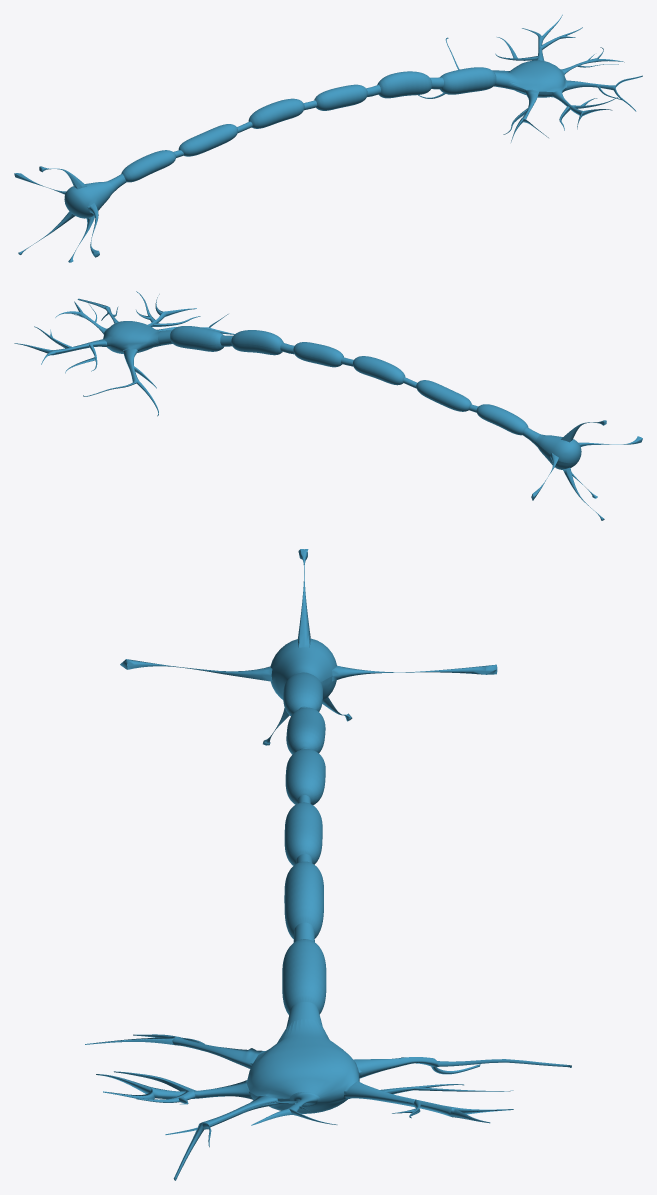
Rendered from 9ed90ed6-5ef8-4b29-85ef-f02ffbd577c3.fbx.
3 renders of one model, top to bottom at view 1: azimuth 30°, elevation 25°; view 2: azimuth 150°, elevation 25°; view 3: azimuth 270°, elevation 25°, orthographic. The views are drawn at different scales.
Visible parts, largest first — view 1: Object_22_Object_6.001; view 2: Object_22_Object_6.001; view 3: Object_22_Object_6.001.
Boxes of the visible parts, x1,y1,x2,y2 form: Object_22_Object_6.001: (14,14,642,262); Object_22_Object_6.001: (14,291,642,520); Object_22_Object_6.001: (85,549,571,1180).
Size of the model in its own units: 325 by 53.23 by 122.
